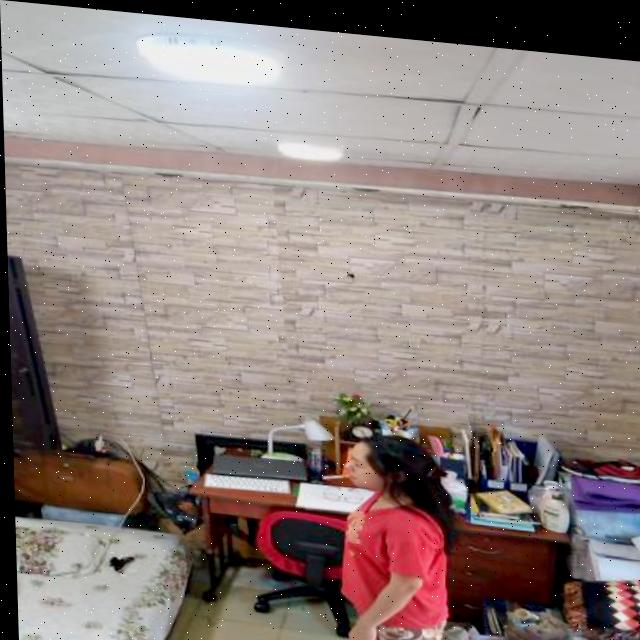cigarette: (318, 467, 348, 476)
